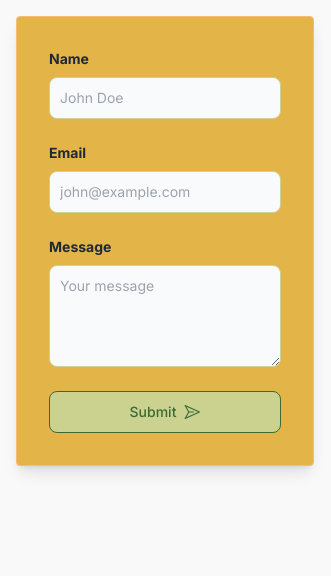
Page › displays an error message for an email input with no domain
Type "griffin@" into the field with placeholder "john@example.com" at (165, 192), box [49, 171, 281, 213]
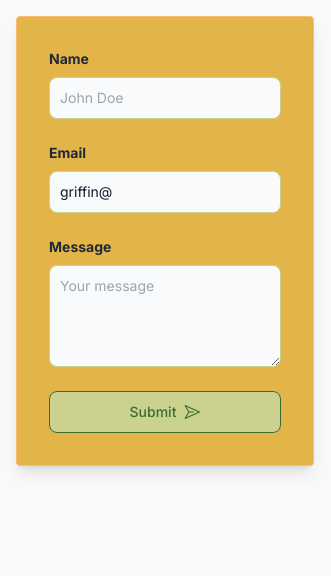
Click the button "Submit" at (165, 412), box [49, 391, 281, 433]
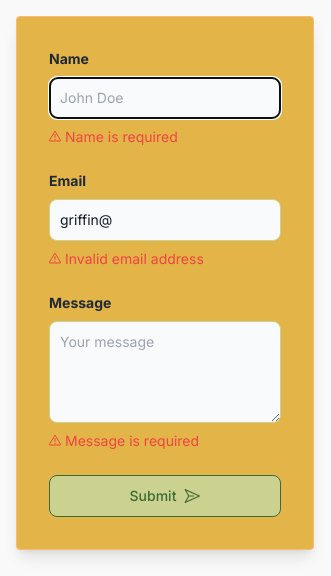
Expected: the text "Invalid email address" is shown, [65, 249, 204, 269]
